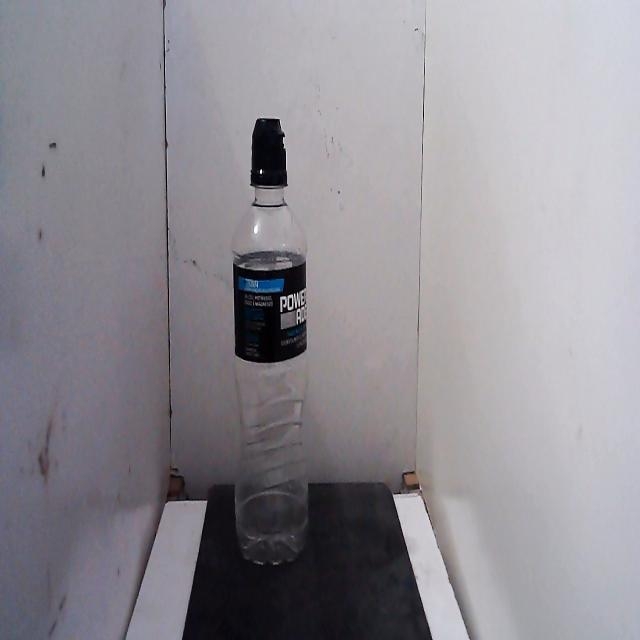plastico: (218, 104, 322, 583)
